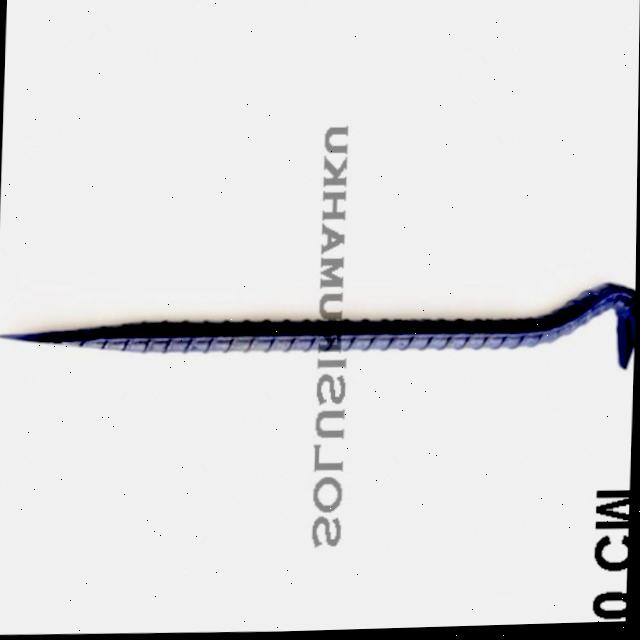crow bar: (0, 275, 637, 366)
